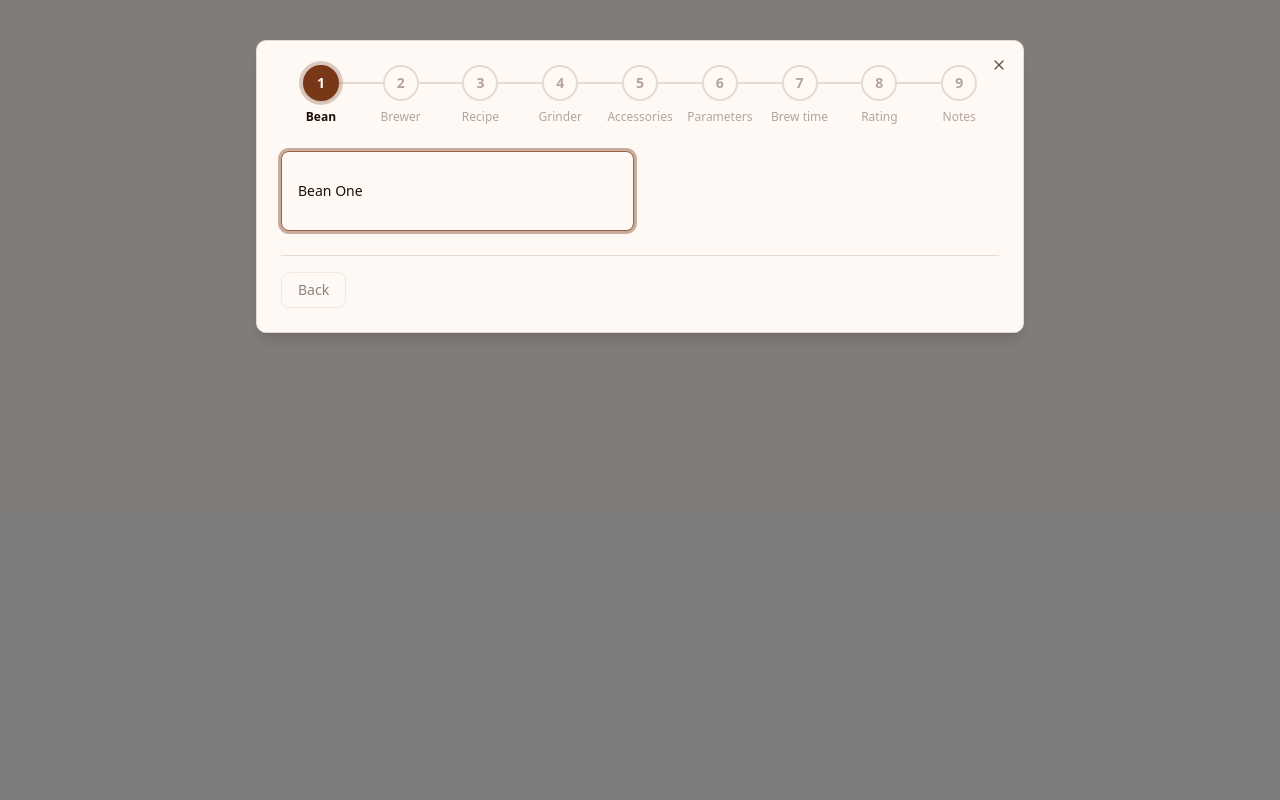
QuickLogWizardDialog › pins latest selections and frequency-ranks the remaining brewer and recipe options
Click the radio button labelled "Bean One". click: [330, 190]
box: [281, 151, 634, 231]
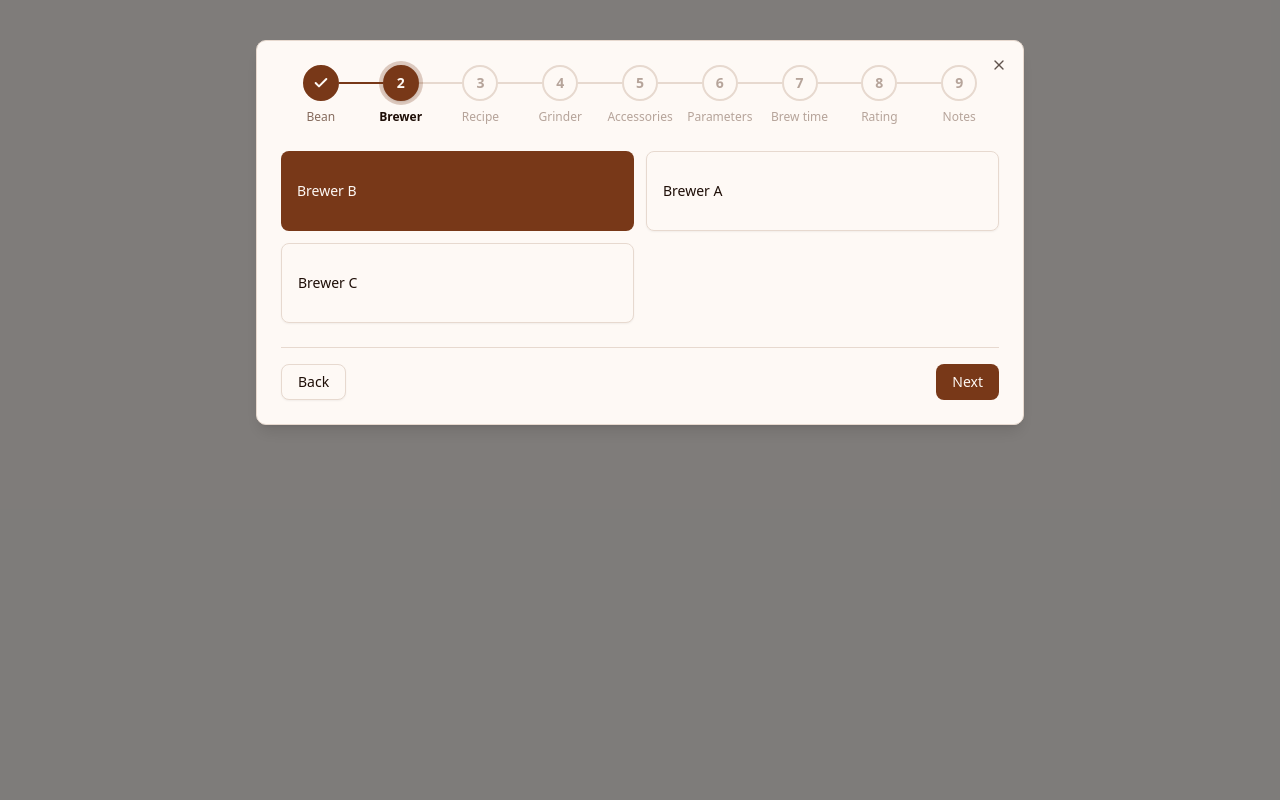
Result: the radio buttons read "Brewer B", "Brewer A", "Brewer C", in this order at [281, 151, 634, 231]; [646, 151, 999, 231]; [281, 243, 634, 323]
Click the button "Next". click: [968, 382]
box: [936, 364, 999, 400]
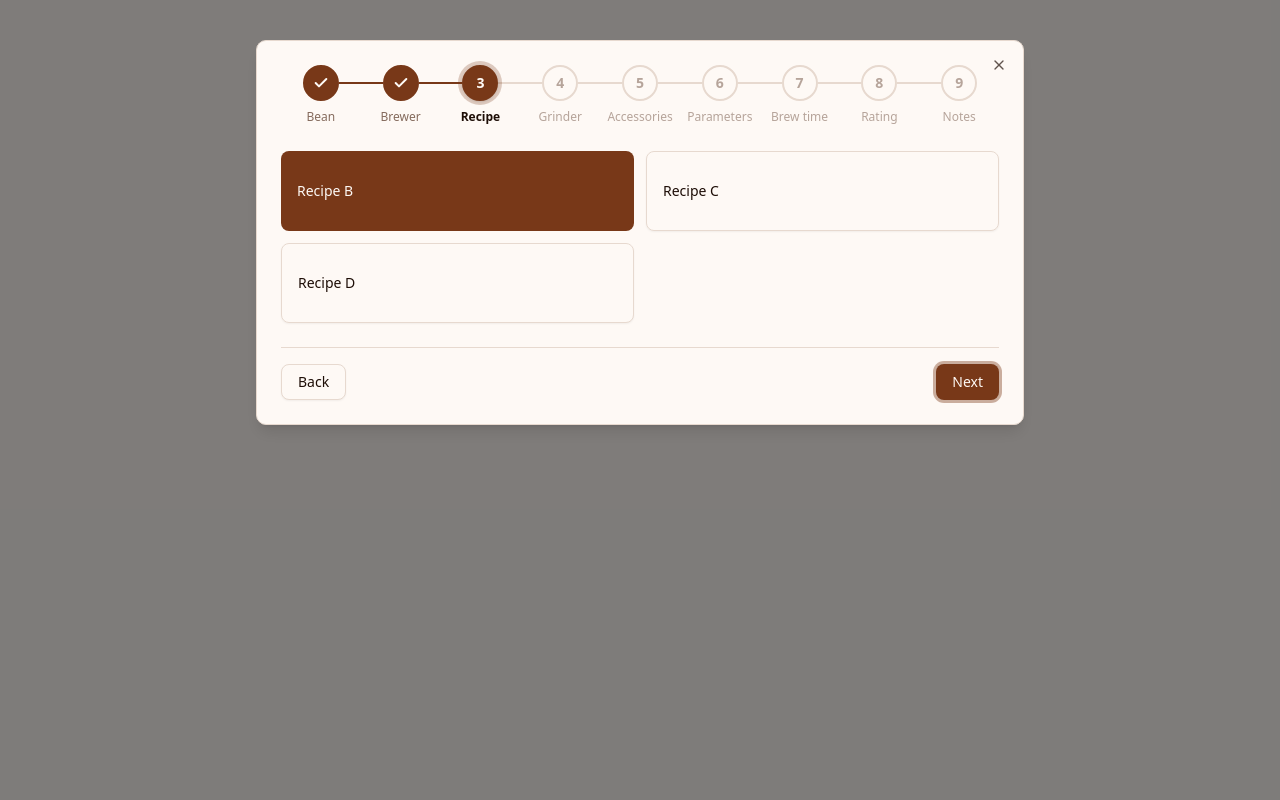
Result: the radio buttons read "Recipe B", "Recipe C", "Recipe D", in this order at [281, 151, 634, 231]; [646, 151, 999, 231]; [281, 243, 634, 323]
